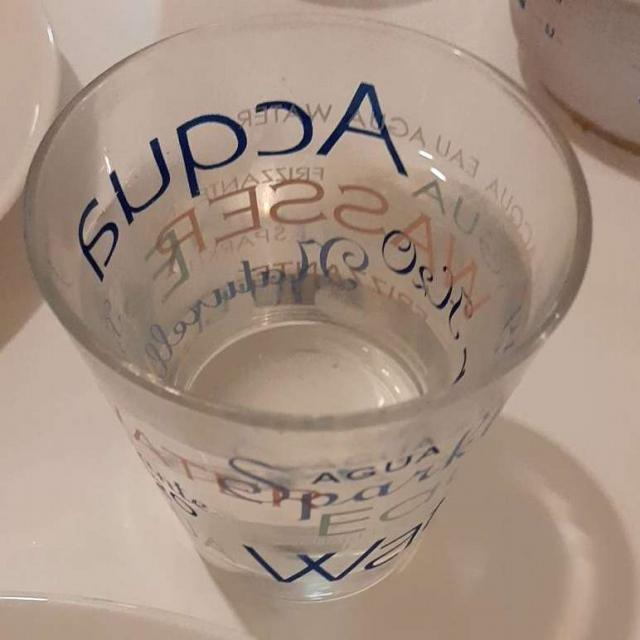water: (142, 284, 450, 406)
